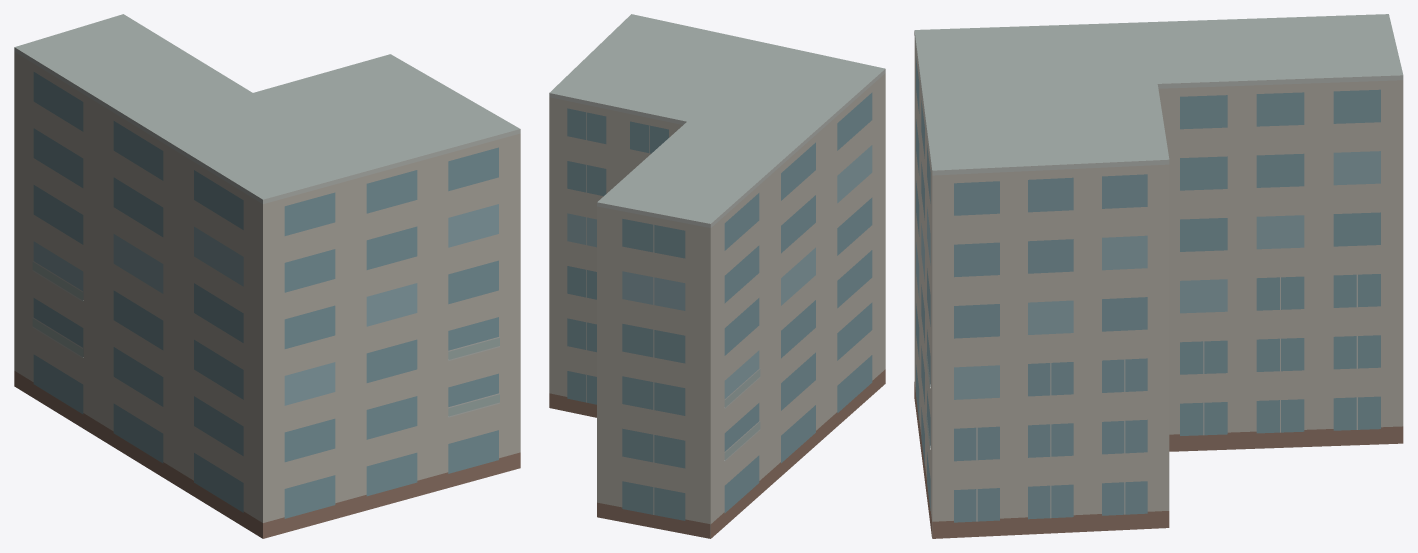
The model's file is survey-upis-32723362.glb.
The picture shows the model from 3 angles, left to right: view 1: azimuth 30°, elevation 25°; view 2: azimuth 150°, elevation 25°; view 3: azimuth 270°, elevation 25°; orthographic projection. The views are drawn at different scales.
Visible parts, largest first — view 1: survey-upis-32723362.tmp; view 2: survey-upis-32723362.tmp; view 3: survey-upis-32723362.tmp.
Part boxes in pixels (left/top/right/bottom): survey-upis-32723362.tmp: left=14, top=14, right=520, bottom=538; survey-upis-32723362.tmp: left=549, top=14, right=885, bottom=538; survey-upis-32723362.tmp: left=914, top=14, right=1403, bottom=538.
Bounding box in the file's own units: 16.71 × 18.3 × 22.03.
